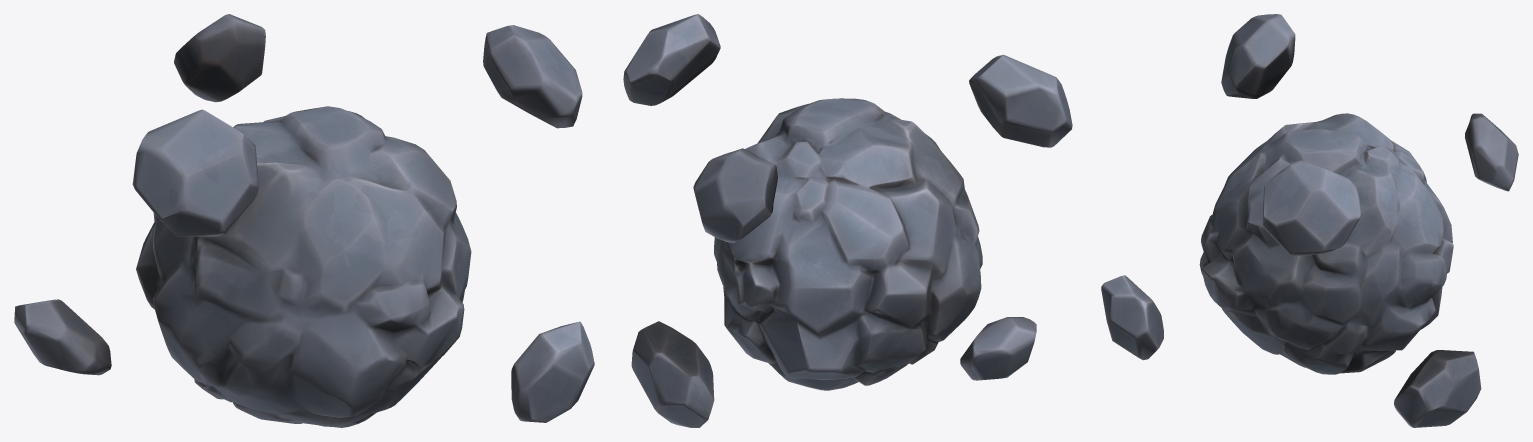
Rendered from Planet_GravityRocks_Gray.fbx.
3 views of the same model, side by side, from view 1: azimuth 30°, elevation 25°; view 2: azimuth 150°, elevation 25°; view 3: azimuth 270°, elevation 25° (orthographic). The views are drawn at different scales.
Visible parts, largest first — view 1: Planet_GravityRocks_Gray, Planet_GravityRocks_Gray_Parts; view 2: Planet_GravityRocks_Gray, Planet_GravityRocks_Gray_Parts; view 3: Planet_GravityRocks_Gray, Planet_GravityRocks_Gray_Parts.
Boxes of the visible parts, x1=… form: Planet_GravityRocks_Gray: x1=136, y1=106, x2=471, y2=427; Planet_GravityRocks_Gray_Parts: x1=14, y1=14, x2=594, y2=422; Planet_GravityRocks_Gray: x1=714, y1=98, x2=982, y2=390; Planet_GravityRocks_Gray_Parts: x1=623, y1=14, x2=1072, y2=427; Planet_GravityRocks_Gray: x1=1199, y1=113, x2=1453, y2=374; Planet_GravityRocks_Gray_Parts: x1=1101, y1=14, x2=1518, y2=427.
Bounding box in the file's own units: 388 × 298 × 362.
